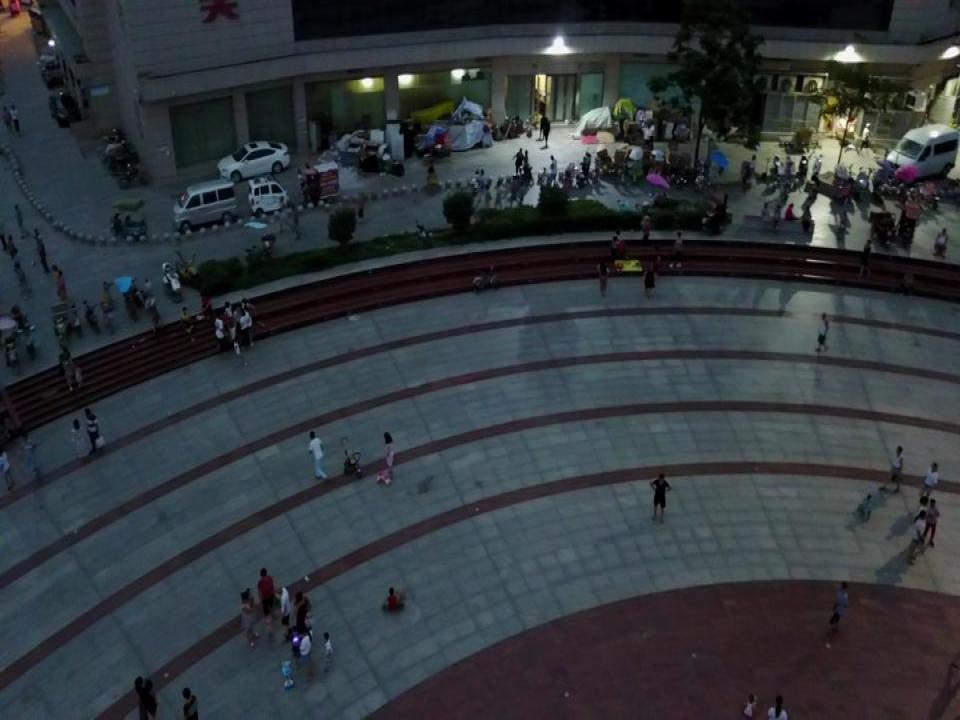car: (213, 140, 294, 180), (46, 84, 79, 129)
van: (887, 119, 956, 184), (170, 180, 239, 231), (247, 179, 291, 221)
